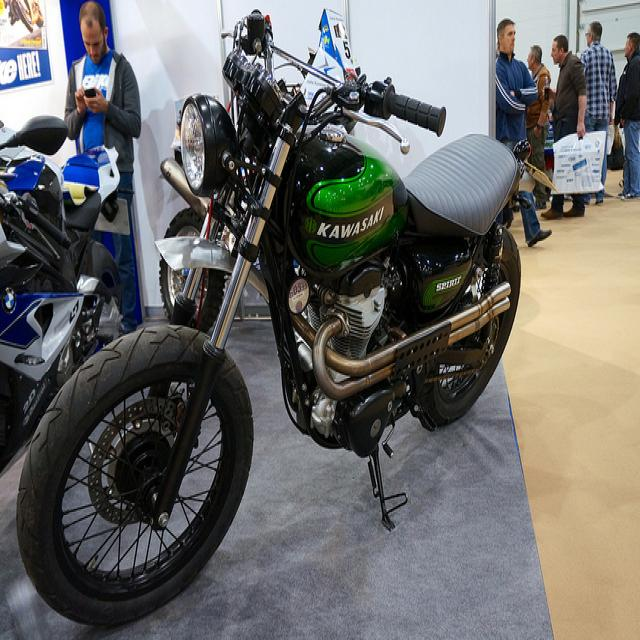motor: (19, 13, 529, 626), (0, 118, 129, 473)
